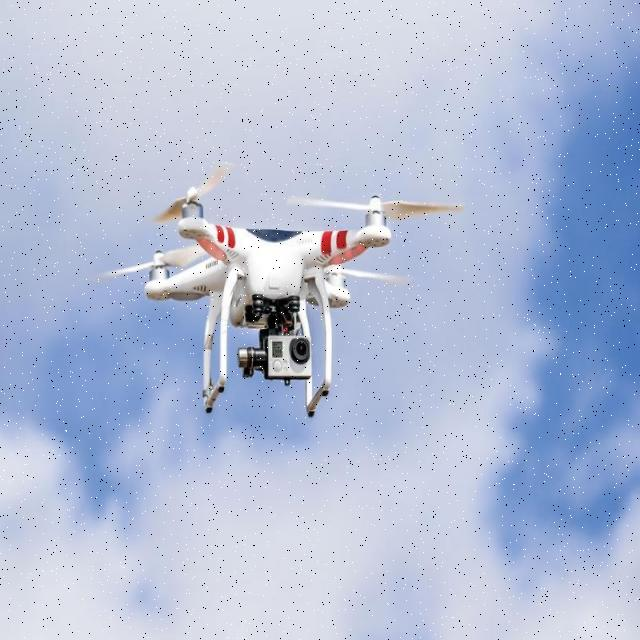UAV: (142, 180, 394, 425)
